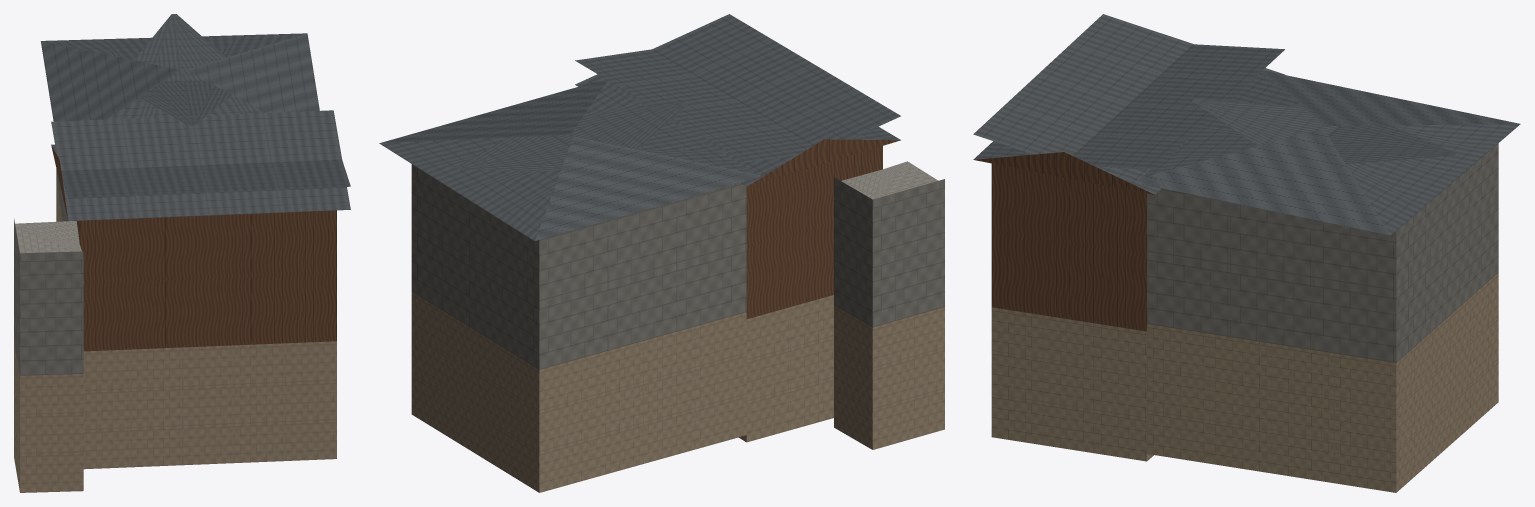
Rendered from bld_c22_46_393.gltf.
The picture shows the model from 3 angles, left to right: view 1: azimuth 30°, elevation 25°; view 2: azimuth 150°, elevation 25°; view 3: azimuth 270°, elevation 25°; orthographic projection. The views are drawn at different scales.
Parts seen in each view (by area): view 1: bld_c22_46_393; view 2: bld_c22_46_393; view 3: bld_c22_46_393.
Boxes of the visible parts, x1,y1,x2,y2 form: bld_c22_46_393: (14,14,350,492); bld_c22_46_393: (379,14,944,492); bld_c22_46_393: (973,14,1520,492).
Bounding box in the file's own units: 18.78 × 12.5 × 19.48.
7 materials, 7 textured.
